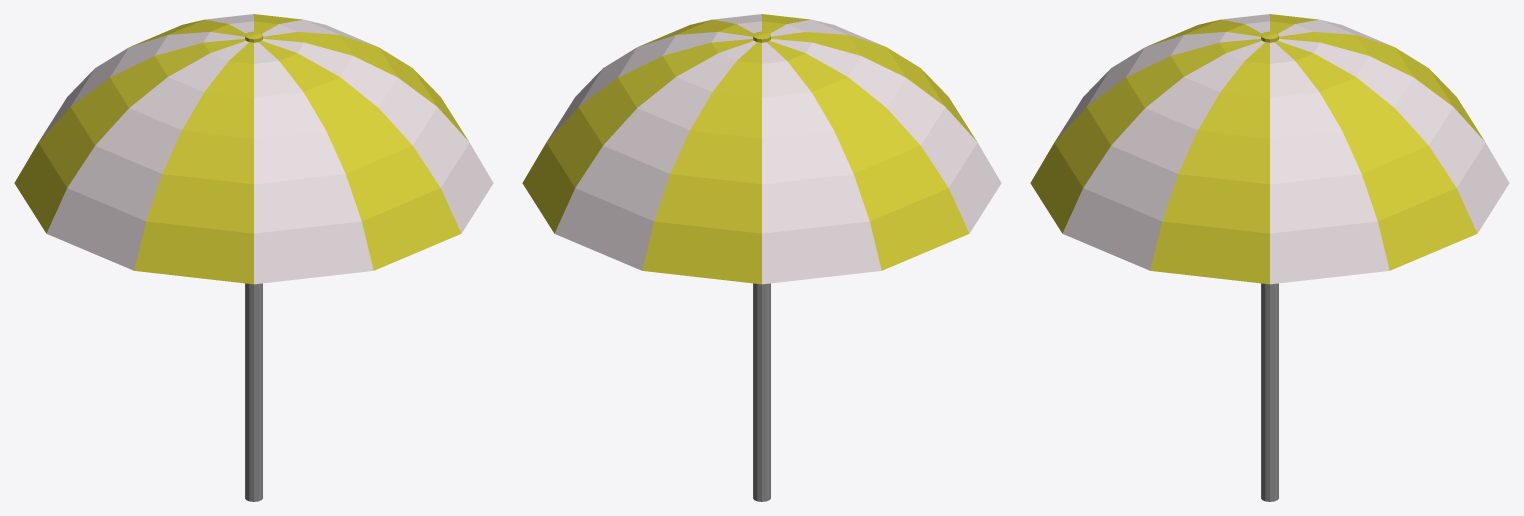
The model's file is Umbrella.fbx.
3 views of the same model, side by side, from view 1: azimuth 30°, elevation 25°; view 2: azimuth 150°, elevation 25°; view 3: azimuth 270°, elevation 25° (orthographic).
Parts seen in each view (by area): view 1: Sphere, Sphere.002, Sphere.001; view 2: Sphere, Sphere.002, Sphere.001; view 3: Sphere, Sphere.002, Sphere.001.
Part boxes in pixels (box(x1,y1,x2,y2)): Sphere: box(14, 14, 468, 284); Sphere.002: box(39, 14, 493, 284); Sphere.001: box(245, 283, 262, 501); Sphere: box(522, 14, 976, 284); Sphere.002: box(547, 14, 1001, 284); Sphere.001: box(753, 283, 770, 501); Sphere: box(1030, 14, 1484, 284); Sphere.002: box(1055, 14, 1509, 284); Sphere.001: box(1261, 283, 1278, 501).
Bounding box in the file's own units: 185 × 197 × 185.
